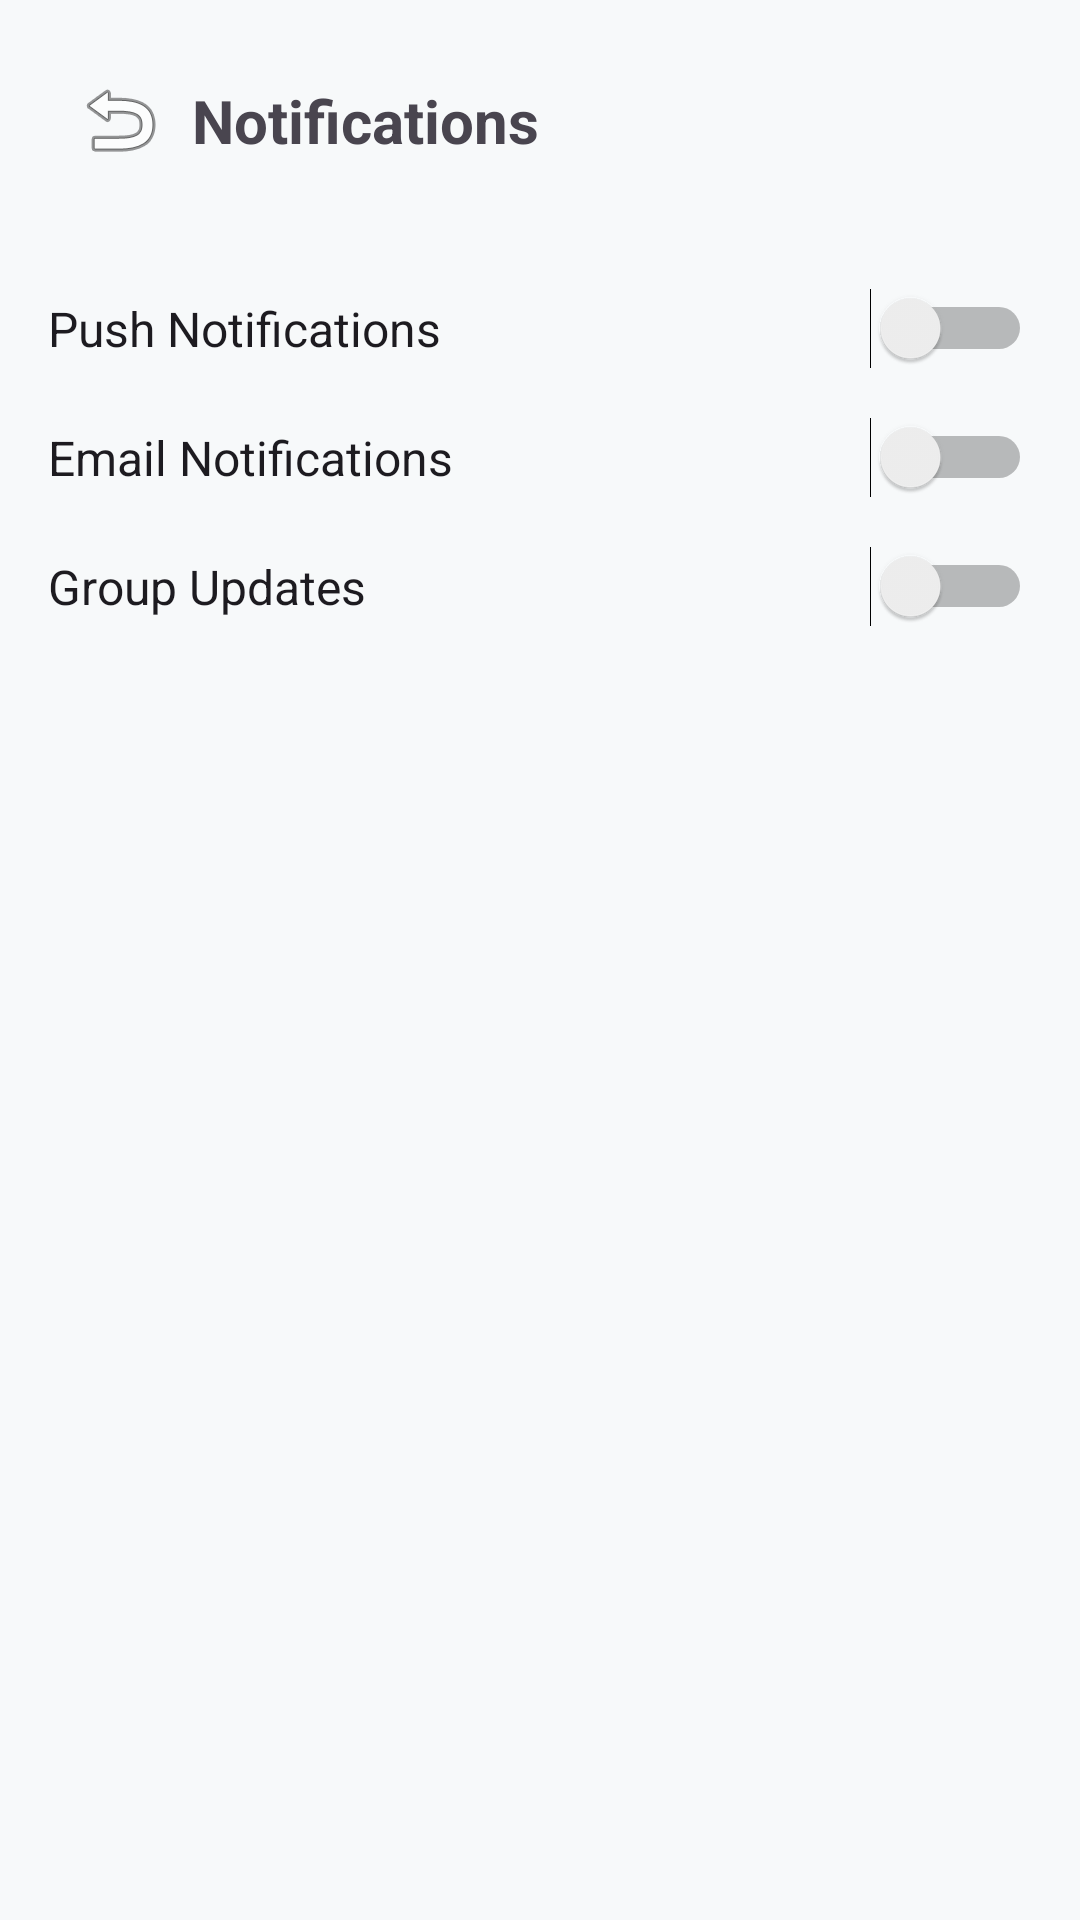

Named icons in this screenshot (1080px x 1920px) and their centers, point (x, y):
Back: point (121, 120)
